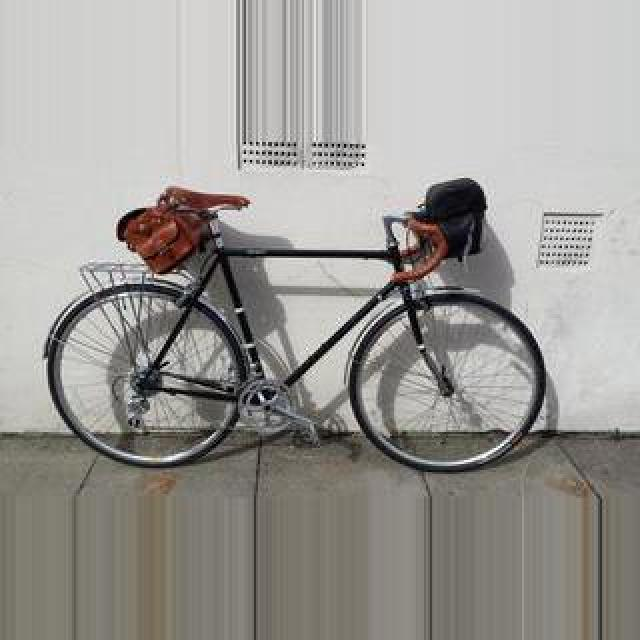Person: (38, 178, 564, 484)
